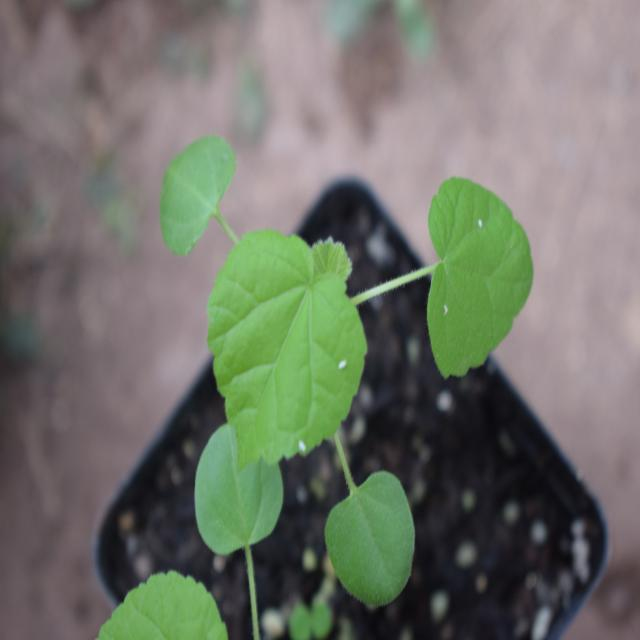abutilon theophrasti: (156, 98, 520, 562)
